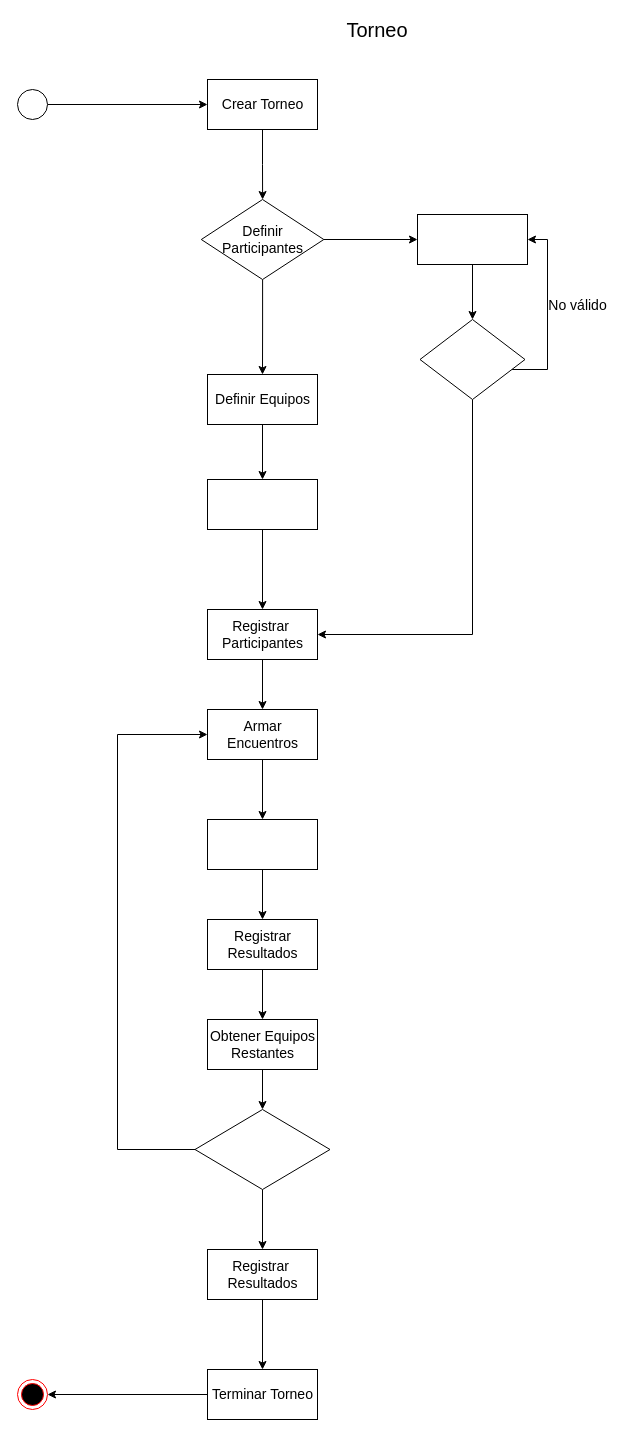
Image size: 624x1437. Some labels were removed from this diagram. The centre of each missing label's shape, as x and y in pixels:
"Cargar Archivo XML" goes at (472,239).
"Ingresar Participantes" goes at (262,504).
"Jugar Encuentros de Ronda" goes at (262,844).
"Solo existe un equipo restante" goes at (262,1149).
"Verificar Contenido" goes at (472,359).
